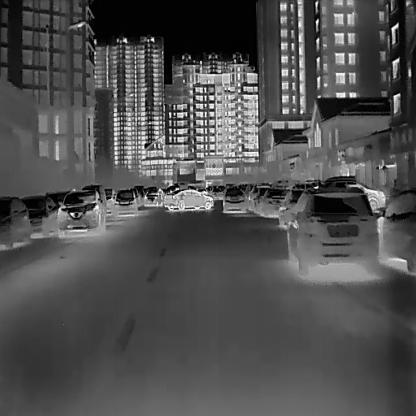car: (287, 192, 381, 273), (373, 187, 415, 272), (56, 189, 106, 236), (323, 180, 385, 211), (0, 193, 32, 250), (21, 192, 60, 236), (163, 188, 214, 210), (278, 191, 309, 227), (258, 188, 286, 217), (113, 188, 138, 218), (223, 188, 247, 213), (144, 186, 165, 206)
